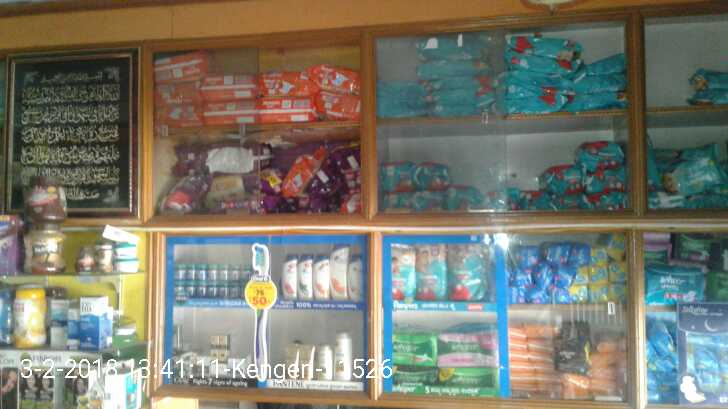beauty: (328, 243, 348, 303), (348, 253, 364, 305), (313, 253, 329, 303), (280, 252, 296, 301), (335, 333, 351, 381), (299, 255, 313, 302), (209, 333, 228, 361)
pharmacy: (447, 241, 488, 303), (643, 262, 707, 301), (437, 332, 497, 368), (413, 242, 446, 303), (389, 331, 437, 365), (438, 367, 496, 390), (172, 264, 185, 282), (196, 264, 207, 282), (229, 265, 240, 283), (219, 264, 229, 282), (208, 264, 218, 281), (185, 281, 195, 298), (219, 282, 229, 298), (207, 283, 218, 297), (186, 265, 195, 281), (196, 282, 206, 296)
